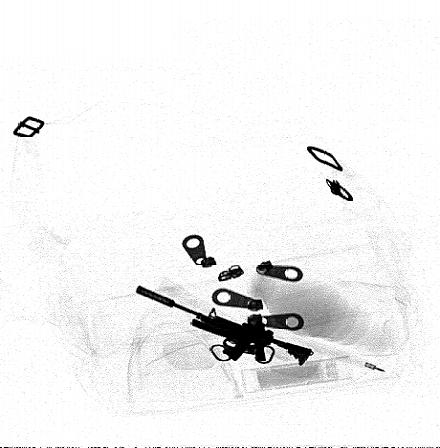Gun: (134, 286, 316, 369)
